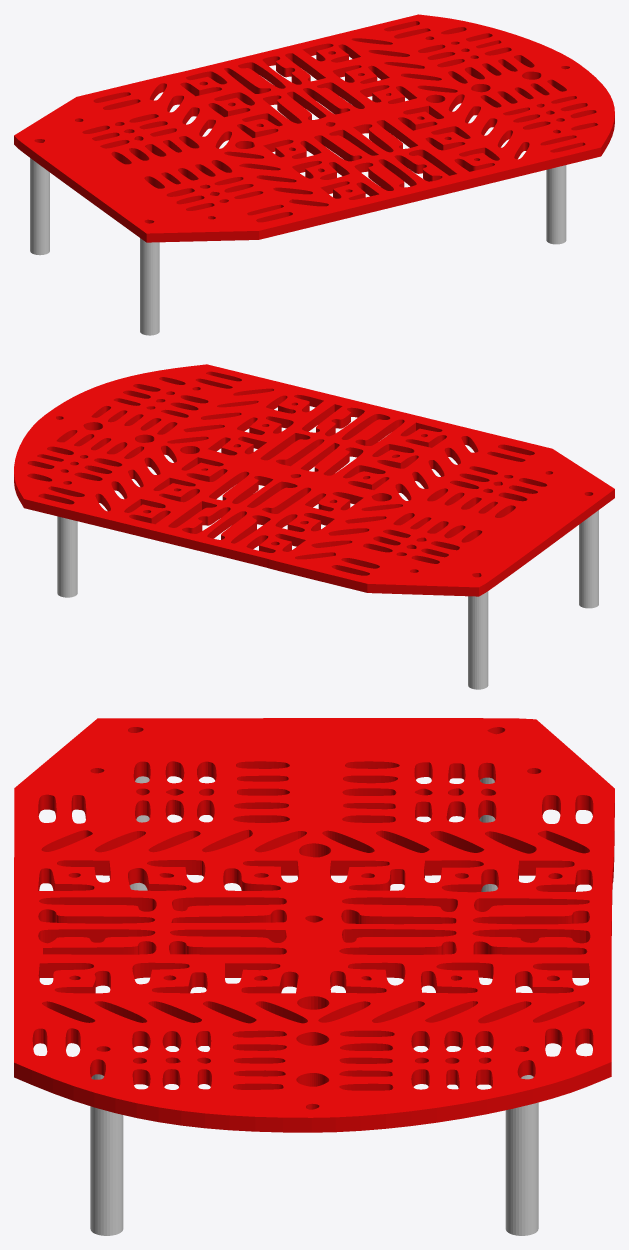
Rendered from top_plate.dae.
3 renders of one model, top to bottom at view 1: azimuth 30°, elevation 25°; view 2: azimuth 150°, elevation 25°; view 3: azimuth 270°, elevation 25°, orthographic. The views are drawn at different scales.
Parts seen in each view (by area): view 1: Curve_001, Cylinder_003, Cylinder_002, Cylinder; view 2: Curve_001, Cylinder_002, Cylinder_003, Cylinder_001; view 3: Curve_001, Cylinder_001, Cylinder.
Boxes of the visible parts, box(x1,y1,x2,y2) form: Curve_001: box(14, 14, 614, 242); Cylinder_003: box(140, 238, 159, 335); Cylinder_002: box(30, 158, 49, 255); Cylinder: box(546, 165, 566, 244); Curve_001: box(14, 364, 614, 596); Cylinder_002: box(468, 591, 488, 689); Cylinder_003: box(579, 510, 598, 608); Cylinder_001: box(57, 516, 77, 597); Curve_001: box(14, 718, 614, 1132); Cylinder_001: box(505, 1075, 538, 1235); Cylinder: box(90, 1074, 123, 1235).
Bounding box in the file's own units: 0.1732 × 0.11 × 0.0363.
